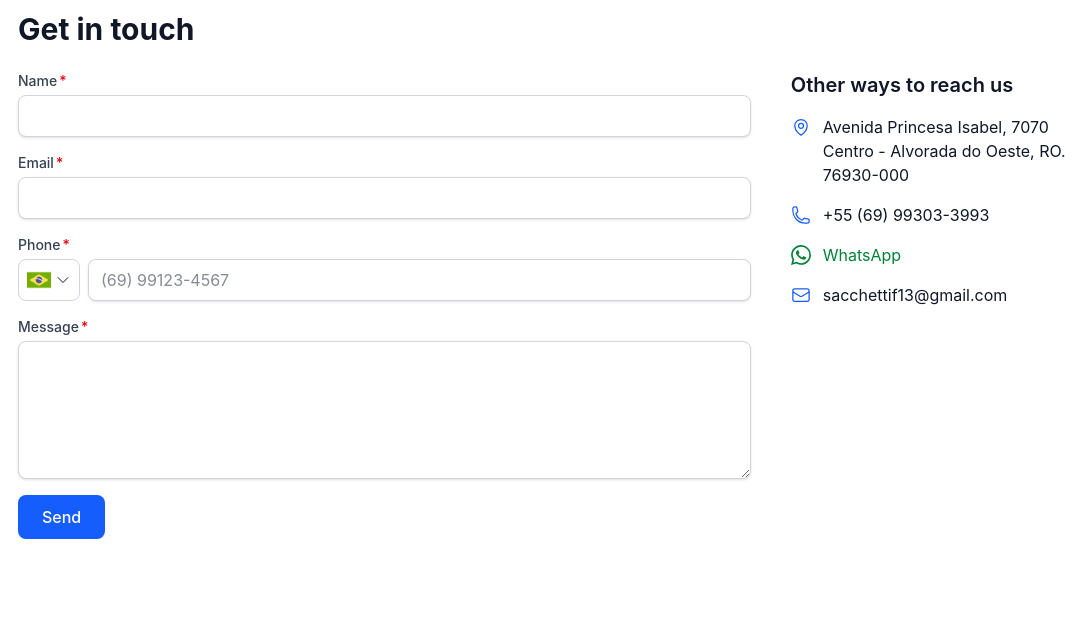
Test: ContactPage › submits a normalized E.164 phone number and clears the form on success
In the field labelled "Name*": (384, 116) [18,95,751,137], type "Jane Doe"
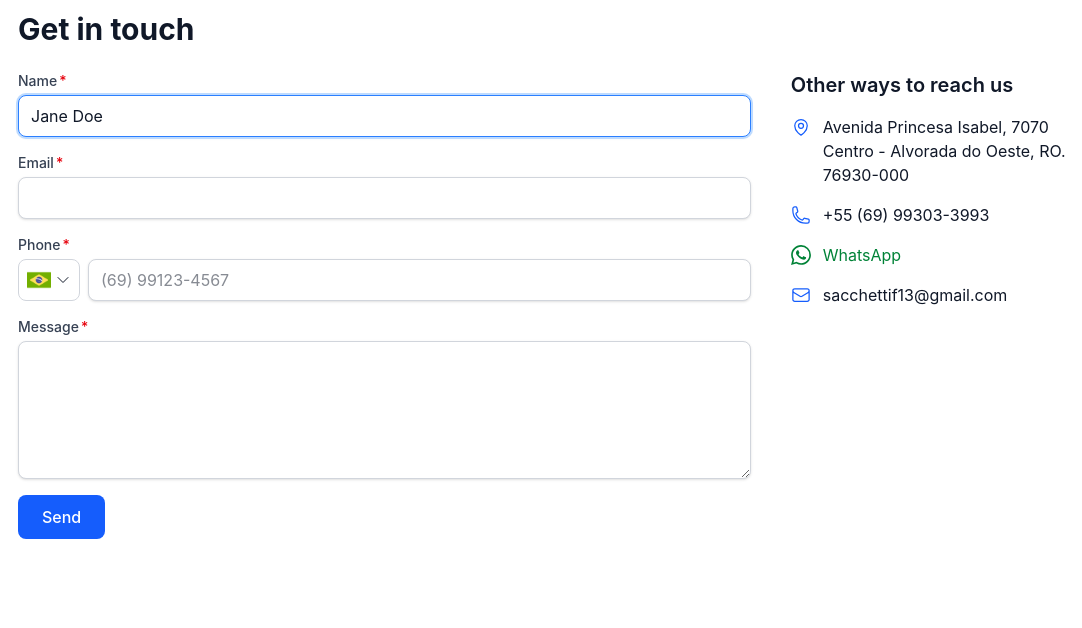
In the field labelled "Email*": (384, 198) [18,177,751,219], type "jane@example.com"
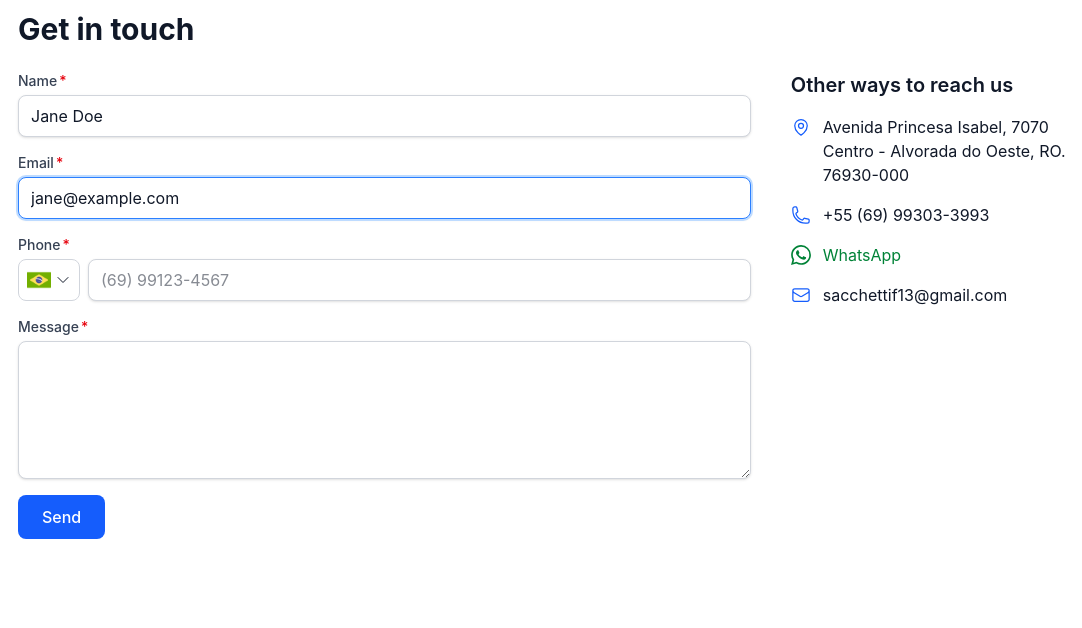
In the text box labelled "Message*": (384, 410) [18,341,751,479], type "Hello, I would like more information."
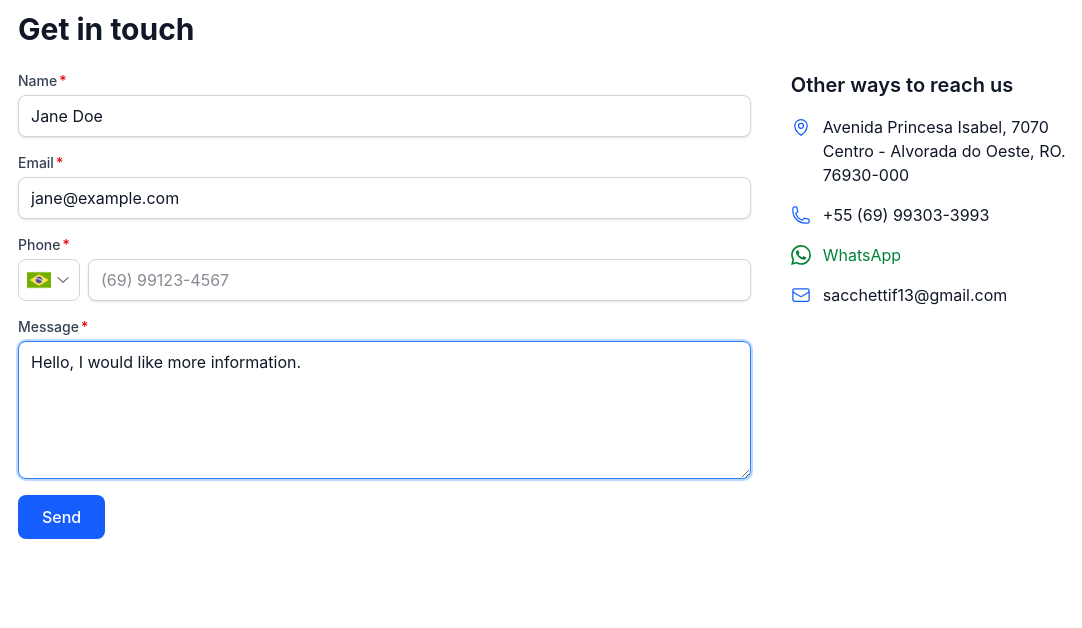
In the field labelled "Phone*": (419, 280) [88,259,751,301], type "11987654321"
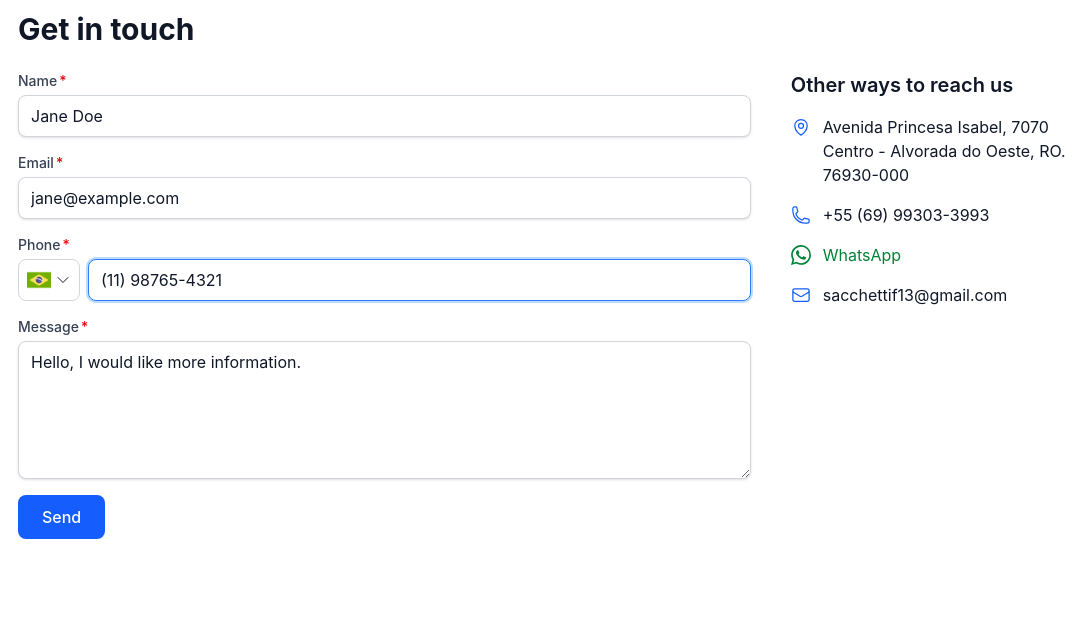
Click the button "Send": (62, 517) [18,495,105,539]
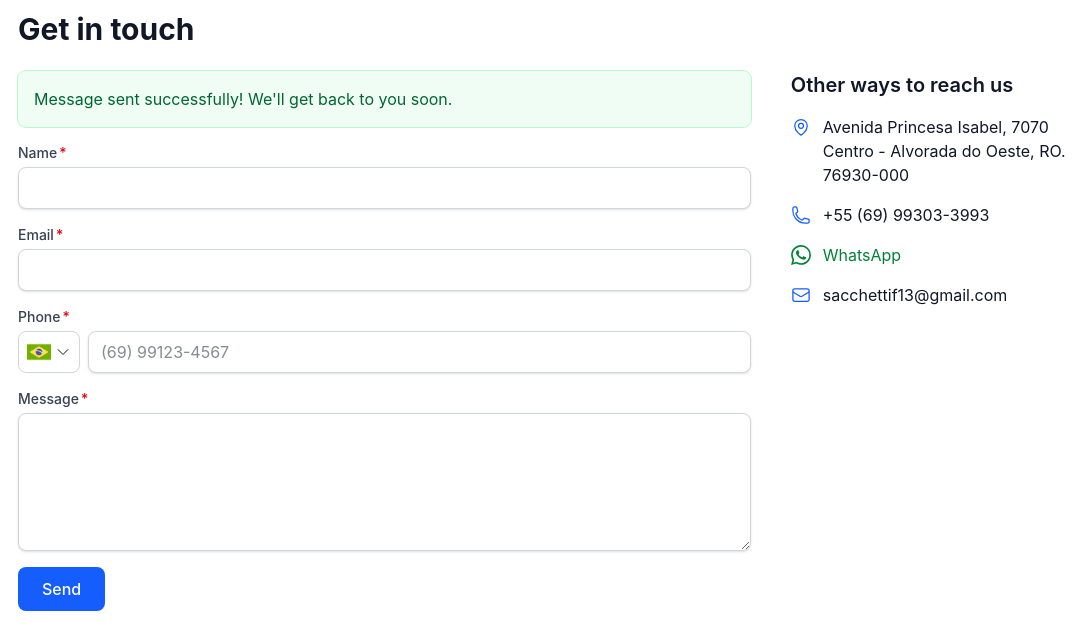
Check: the text "Message sent successfully! We'll get back to you soon." is shown, box [18,71,751,127]
Check: the field labelled "Name*" is empty, box [18,167,751,209]
